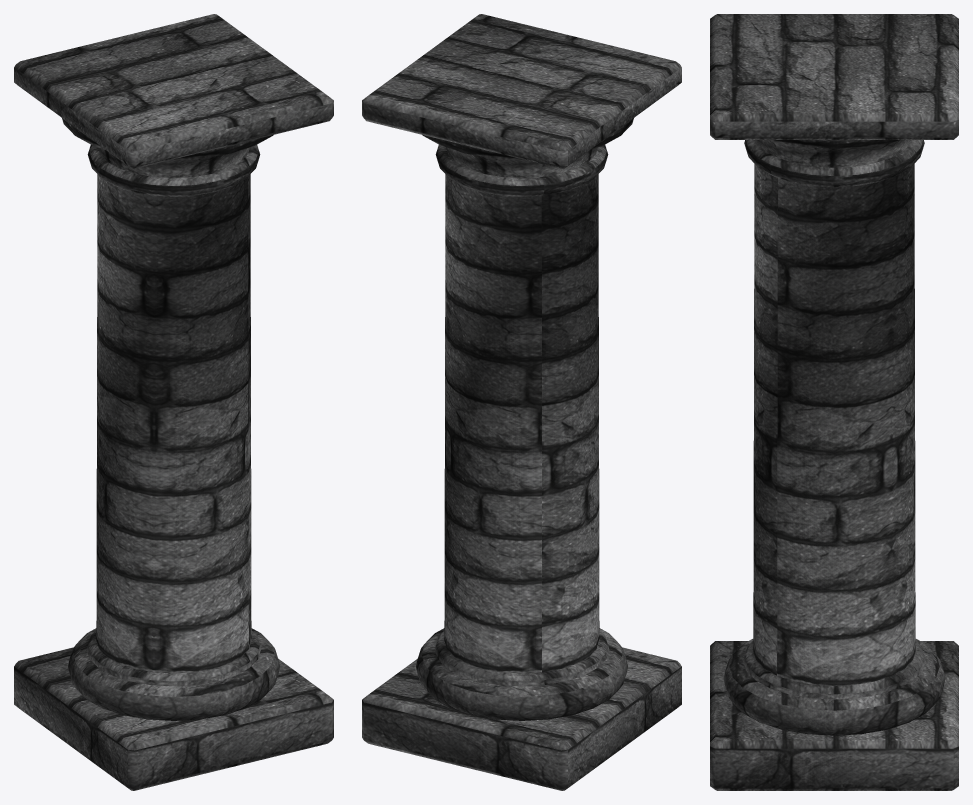
File: stone pillar nice.glb
3 views of the same model, side by side, from view 1: azimuth 30°, elevation 25°; view 2: azimuth 150°, elevation 25°; view 3: azimuth 270°, elevation 25° (orthographic). The views are drawn at different scales.
Parts seen in each view (by area): view 1: column.041; view 2: column.041; view 3: column.041.
Boxes of the visible parts, x1,y1,x2,y2 form: column.041: (14,14,333,790); column.041: (362,14,681,790); column.041: (710,14,958,790).
Bounding box in the file's own units: 0.9144 × 2.74 × 0.9144.
Materials: 1 (1 with a texture image).
